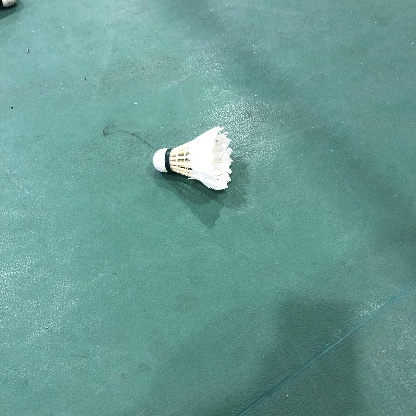ball_single: (153, 126, 233, 190)
